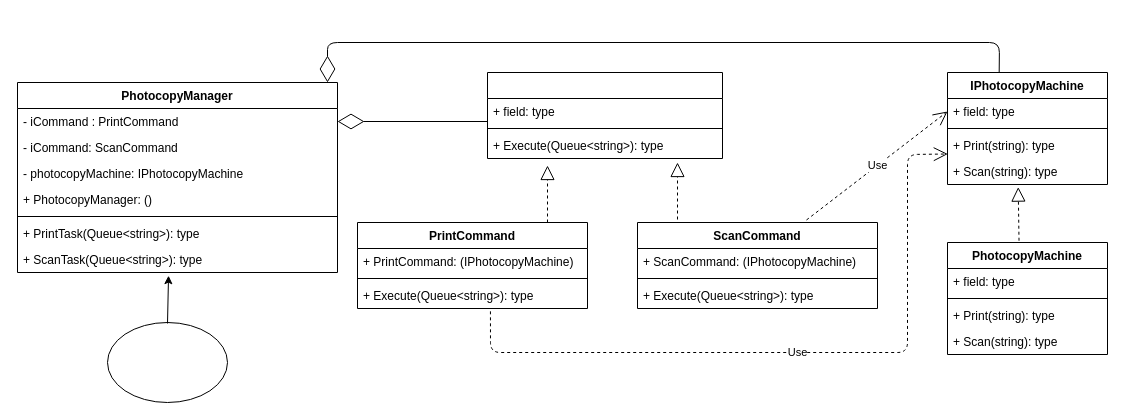
The diagram is 1125 pixels wide and 420 high, and some of its shapes have lost their labels. The shapes that lost their labels are listed below. From the top down, each one's box as (x1, y1, x2, y2) in pixels, then its label:
(486, 72, 722, 158): ICommand
(106, 322, 228, 402): Calling API
